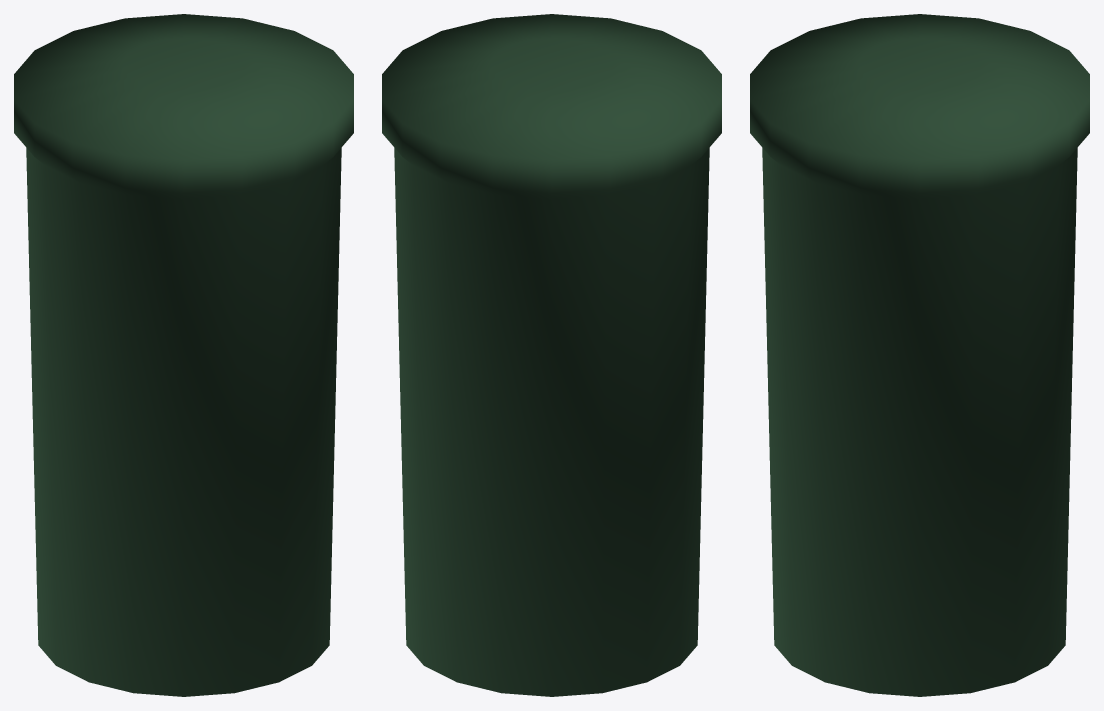
The model's file is trash_bin.glb.
3 renders of one model, left to right at view 1: azimuth 30°, elevation 25°; view 2: azimuth 150°, elevation 25°; view 3: azimuth 270°, elevation 25°, orthographic.
Visible parts, largest first — view 1: trash_bin; view 2: trash_bin; view 3: trash_bin.
Boxes of the visible parts, box(x1,y1,x2,y2) form: trash_bin: box(14, 14, 353, 696); trash_bin: box(382, 14, 721, 696); trash_bin: box(750, 14, 1089, 696).
Size of the model in its own units: 0.56 by 1.02 by 0.5515.
